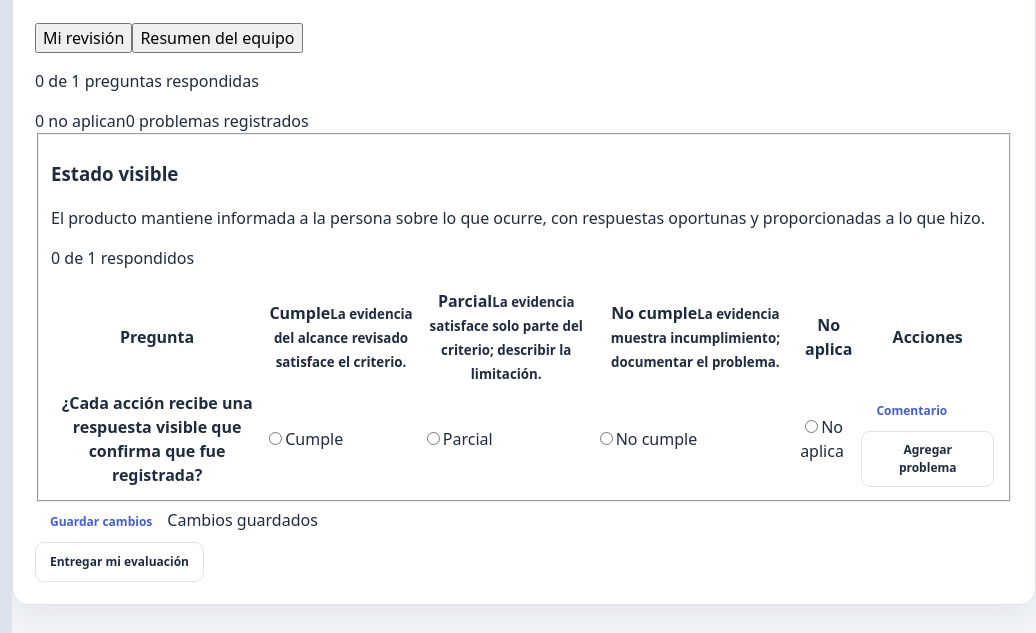
flujo individual › guarda un problema, lo colapsa con aviso y permite editarlo
The width and height of the screenshot is (1036, 633).
Click the button "Agregar problema".
click(928, 460)  # box [861,432,994,488]
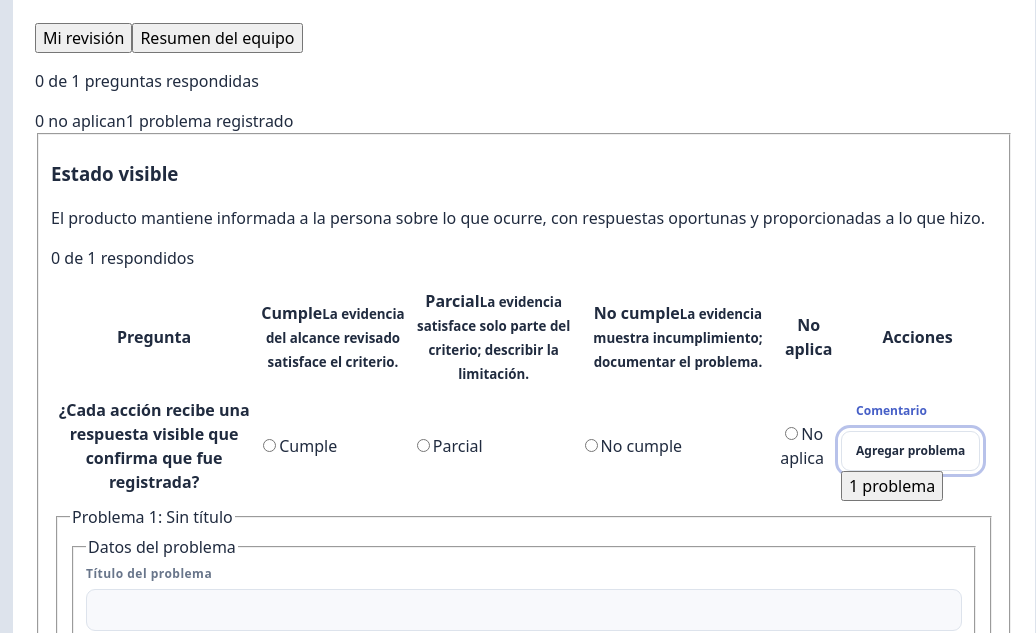
Type "Sin foco visible" into the field labelled "Título del problema".
click(524, 610); type("Sin foco visible")  # box [86,589,962,631]
(page scrolled)
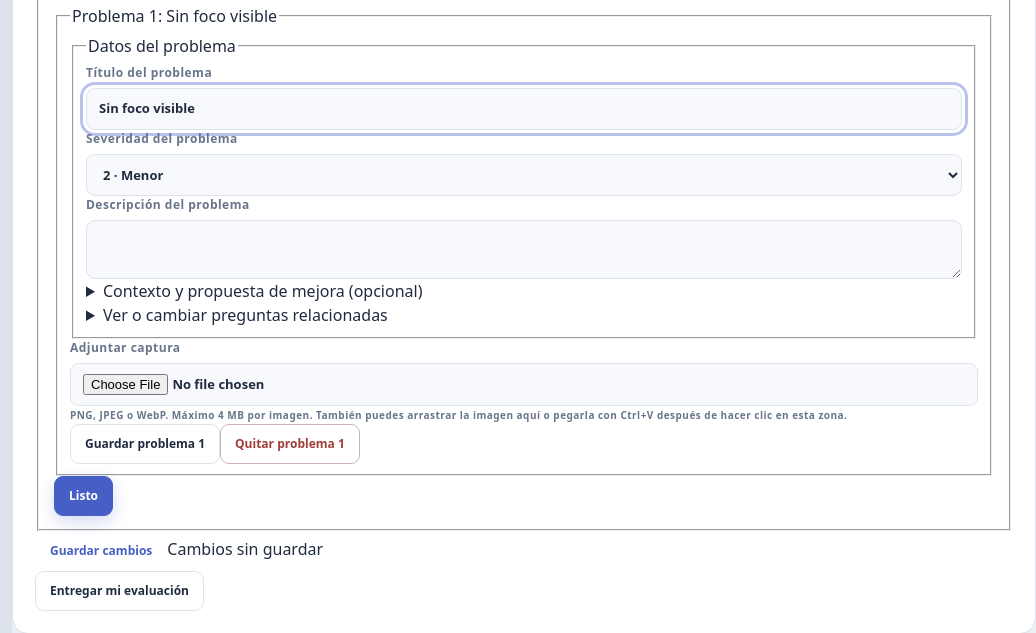
Type "No se ve el foco al tabular" into the text box labelled "Descripción del problema".
click(524, 250); type("No se ve el foco al tabular")  # box [86,220,962,279]
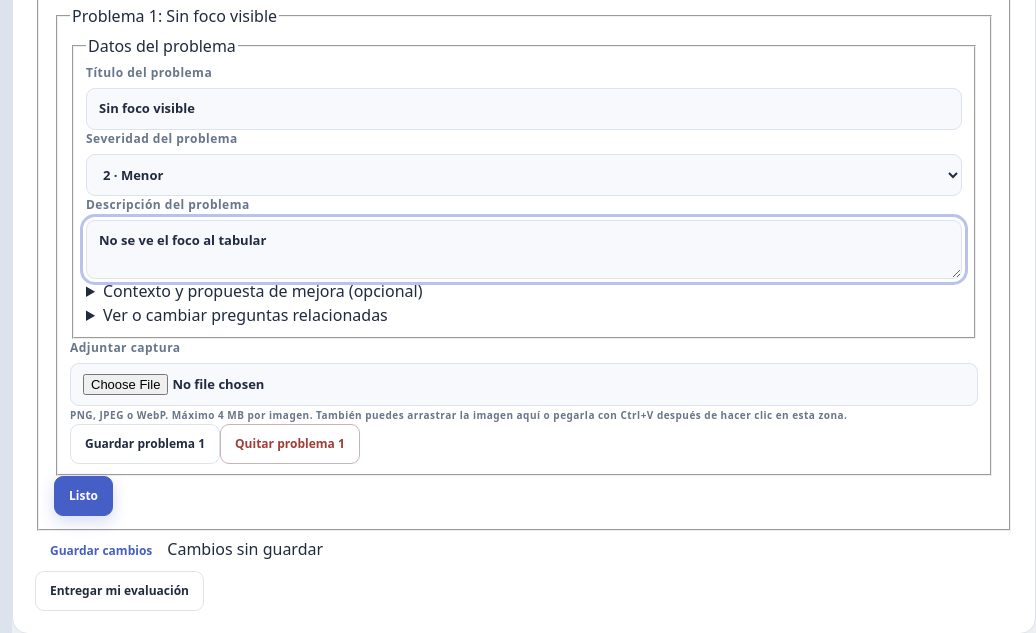
Click the button "Guardar problema 1".
click(145, 444)  # box [70,424,220,464]
(page scrolled)
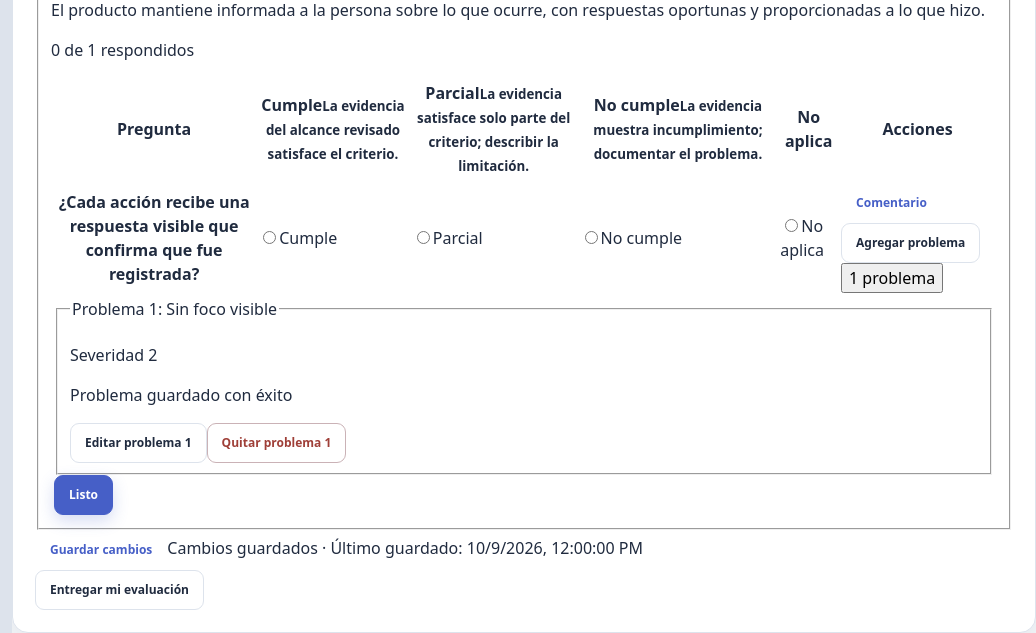
Result: the text "Problema guardado con éxito" is shown at [70,384,292,406]
Result: the label labelled "Título del problema" is gone
Click the button "Editar problema 1".
click(138, 443)  # box [70,423,207,463]
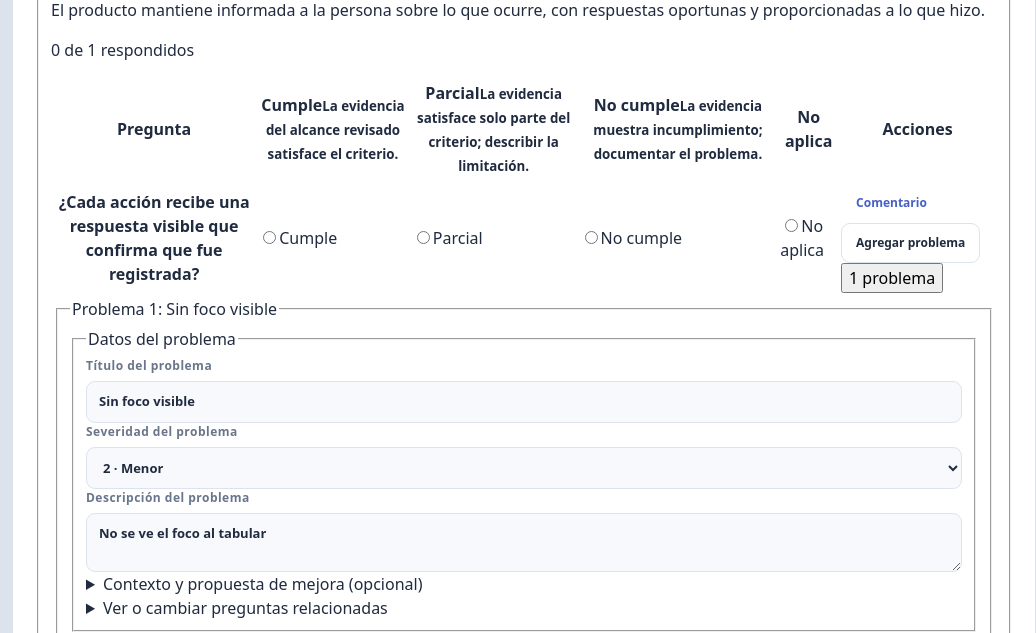
Result: the field labelled "Título del problema" holds "Sin foco visible" at [86,381,962,423]
Result: the text "Problema guardado con éxito" is gone
